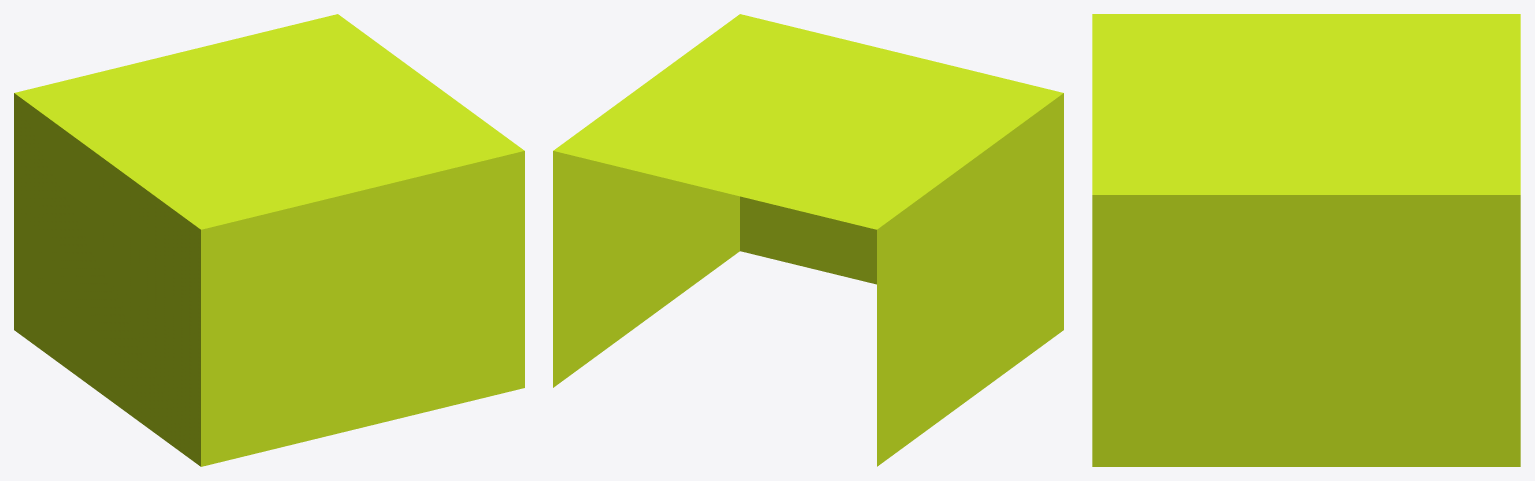
File: border.glb
3 renders of one model, left to right at view 1: azimuth 30°, elevation 25°; view 2: azimuth 150°, elevation 25°; view 3: azimuth 270°, elevation 25°, orthographic. The views are drawn at different scales.
Visible parts, largest first — view 1: Cube.001; view 2: Cube.001; view 3: Cube.001.
Part boxes in pixels (x1=…): Cube.001: x1=14, y1=14, x2=524, y2=466; Cube.001: x1=553, y1=14, x2=1063, y2=466; Cube.001: x1=1092, y1=14, x2=1520, y2=466.
Size of the model in its own units: 2 by 1.4 by 2.
1 material, 1 textured.
